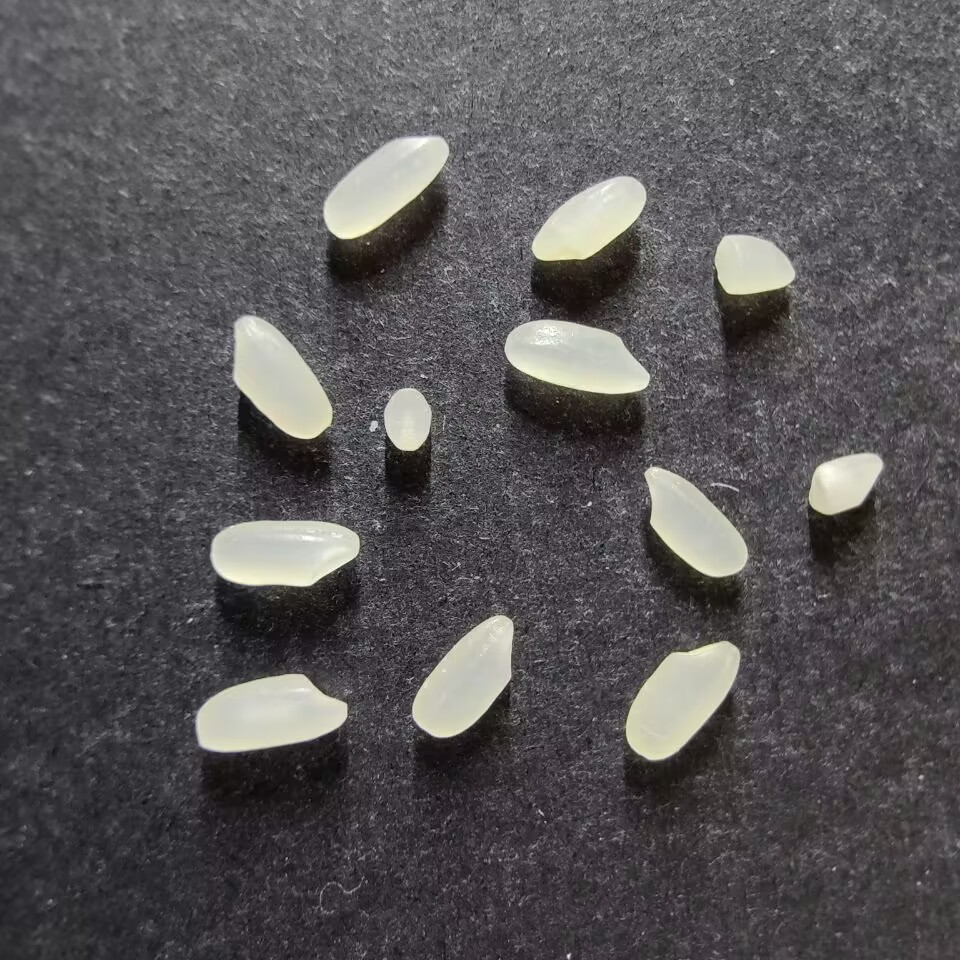broken: (714, 234, 795, 294), (807, 453, 883, 515), (383, 387, 431, 451)
rice: (625, 640, 740, 761), (323, 136, 449, 239), (411, 614, 514, 738), (232, 315, 332, 439), (195, 673, 348, 751), (643, 466, 748, 577), (503, 319, 650, 394), (210, 519, 359, 587), (531, 175, 647, 261)
